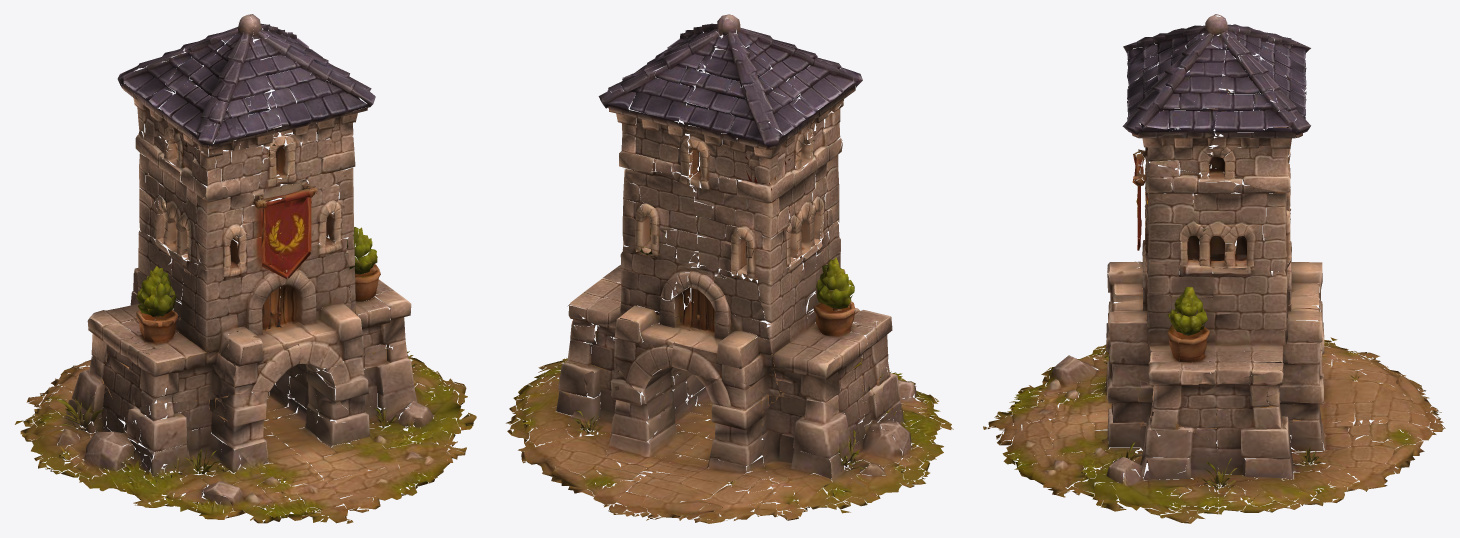
File: hotel_t2.glb
3 renders of one model, left to right at view 1: azimuth 30°, elevation 25°; view 2: azimuth 150°, elevation 25°; view 3: azimuth 270°, elevation 25°, orthographic.
Parts seen in each view (by area): view 1: hotel_t2; view 2: hotel_t2; view 3: hotel_t2.
Boxes of the visible parts, <box> form: hotel_t2: <box>15,14,476,523</box>; hotel_t2: <box>506,14,953,523</box>; hotel_t2: <box>983,14,1445,523</box>.
Size of the model in its own units: 0.9998 by 0.9894 by 0.9848.
Materials: 1 (1 with a texture image).
